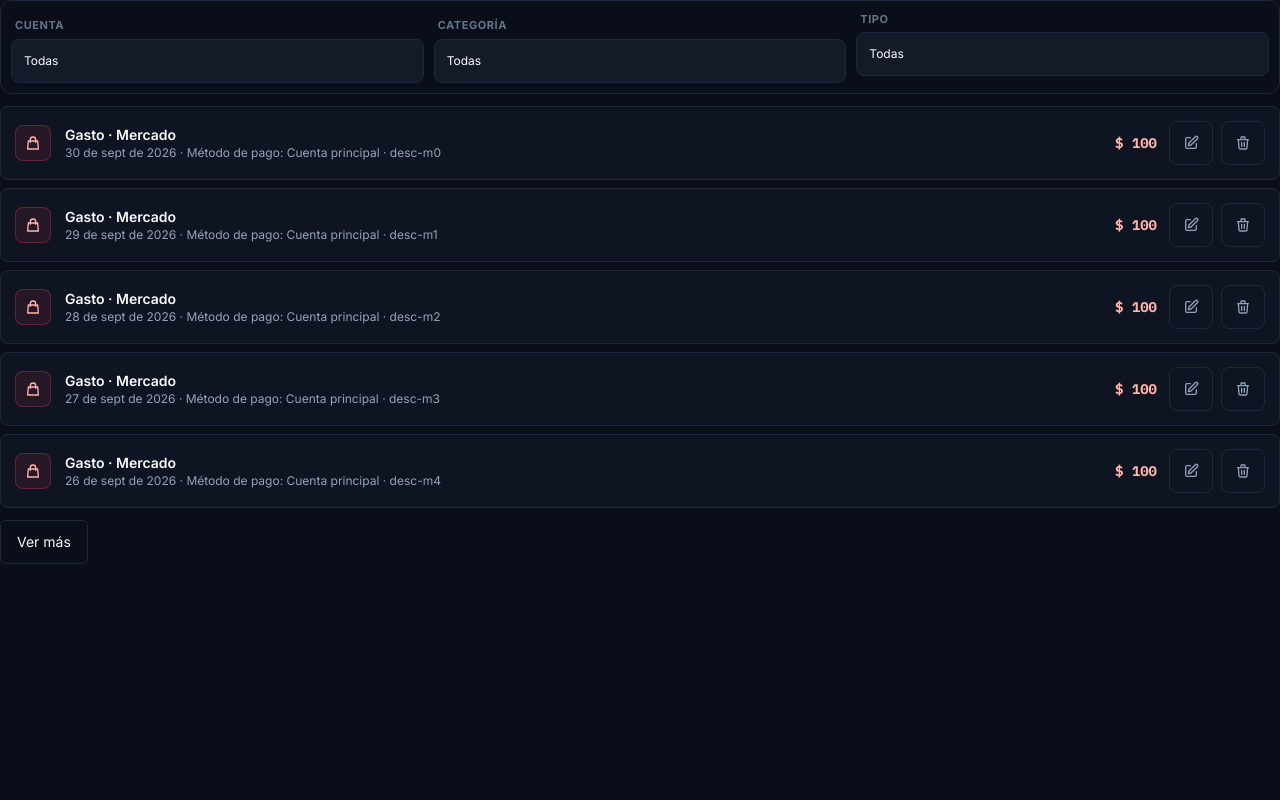
Test case: MovementHistory › shows every row and hides Ver más once the list is exhausted
Expected: the number of list items is 5, [0, 106, 1279, 180]; [0, 188, 1279, 262]; [0, 270, 1279, 344]; [0, 352, 1279, 426]; [0, 434, 1279, 508]
Click the button "Ver más" at (44, 542), box [0, 520, 88, 564]
(page scrolled)
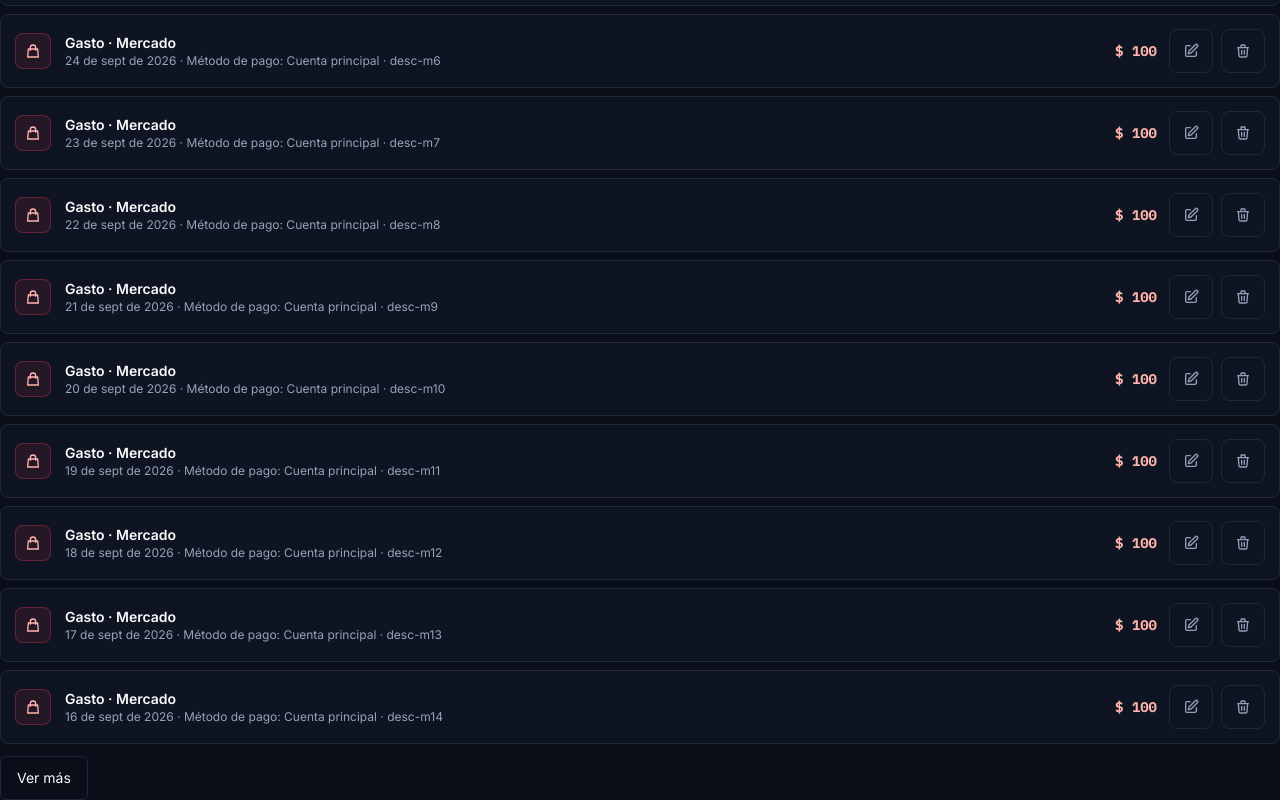
Click the button "Ver más" at (44, 778), box [0, 756, 88, 799]
(page scrolled)
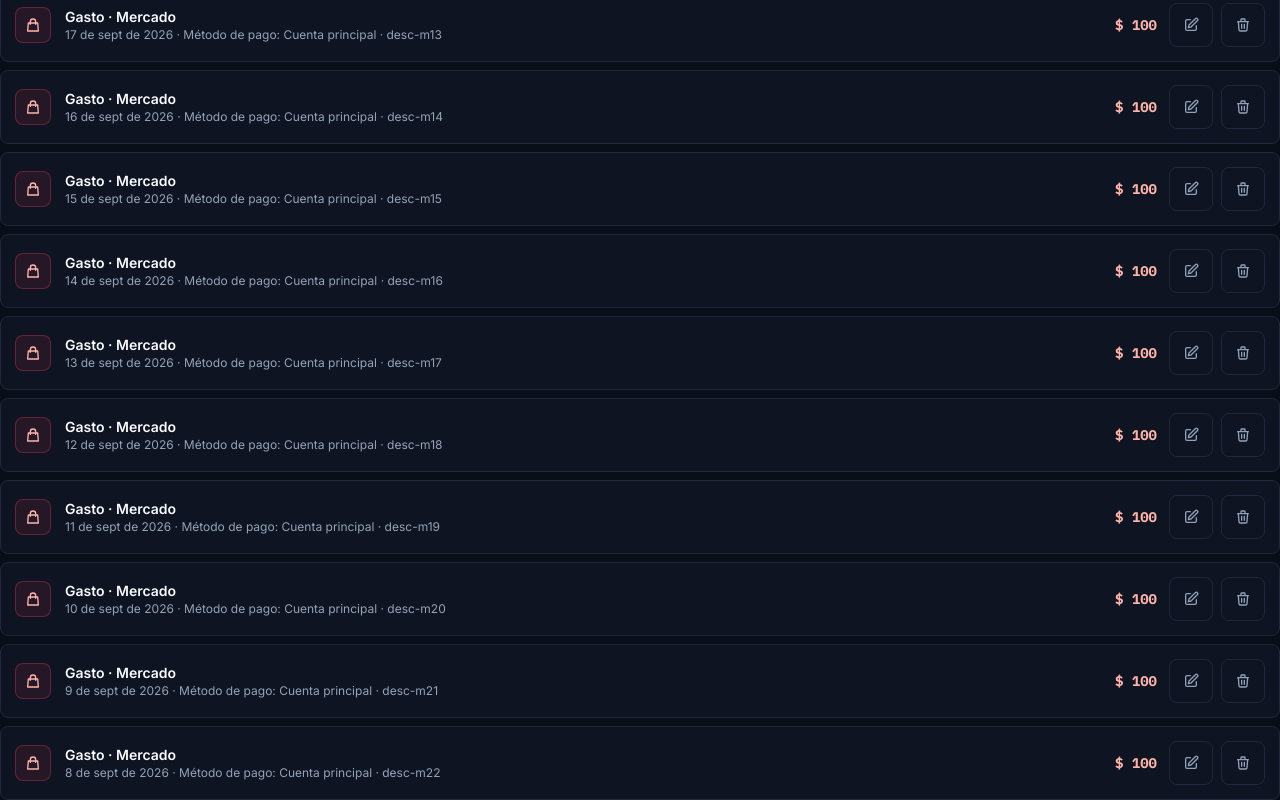
Result: the text "desc-m22" is shown at [372, 765, 440, 780]
Result: the button "Ver más" is gone
